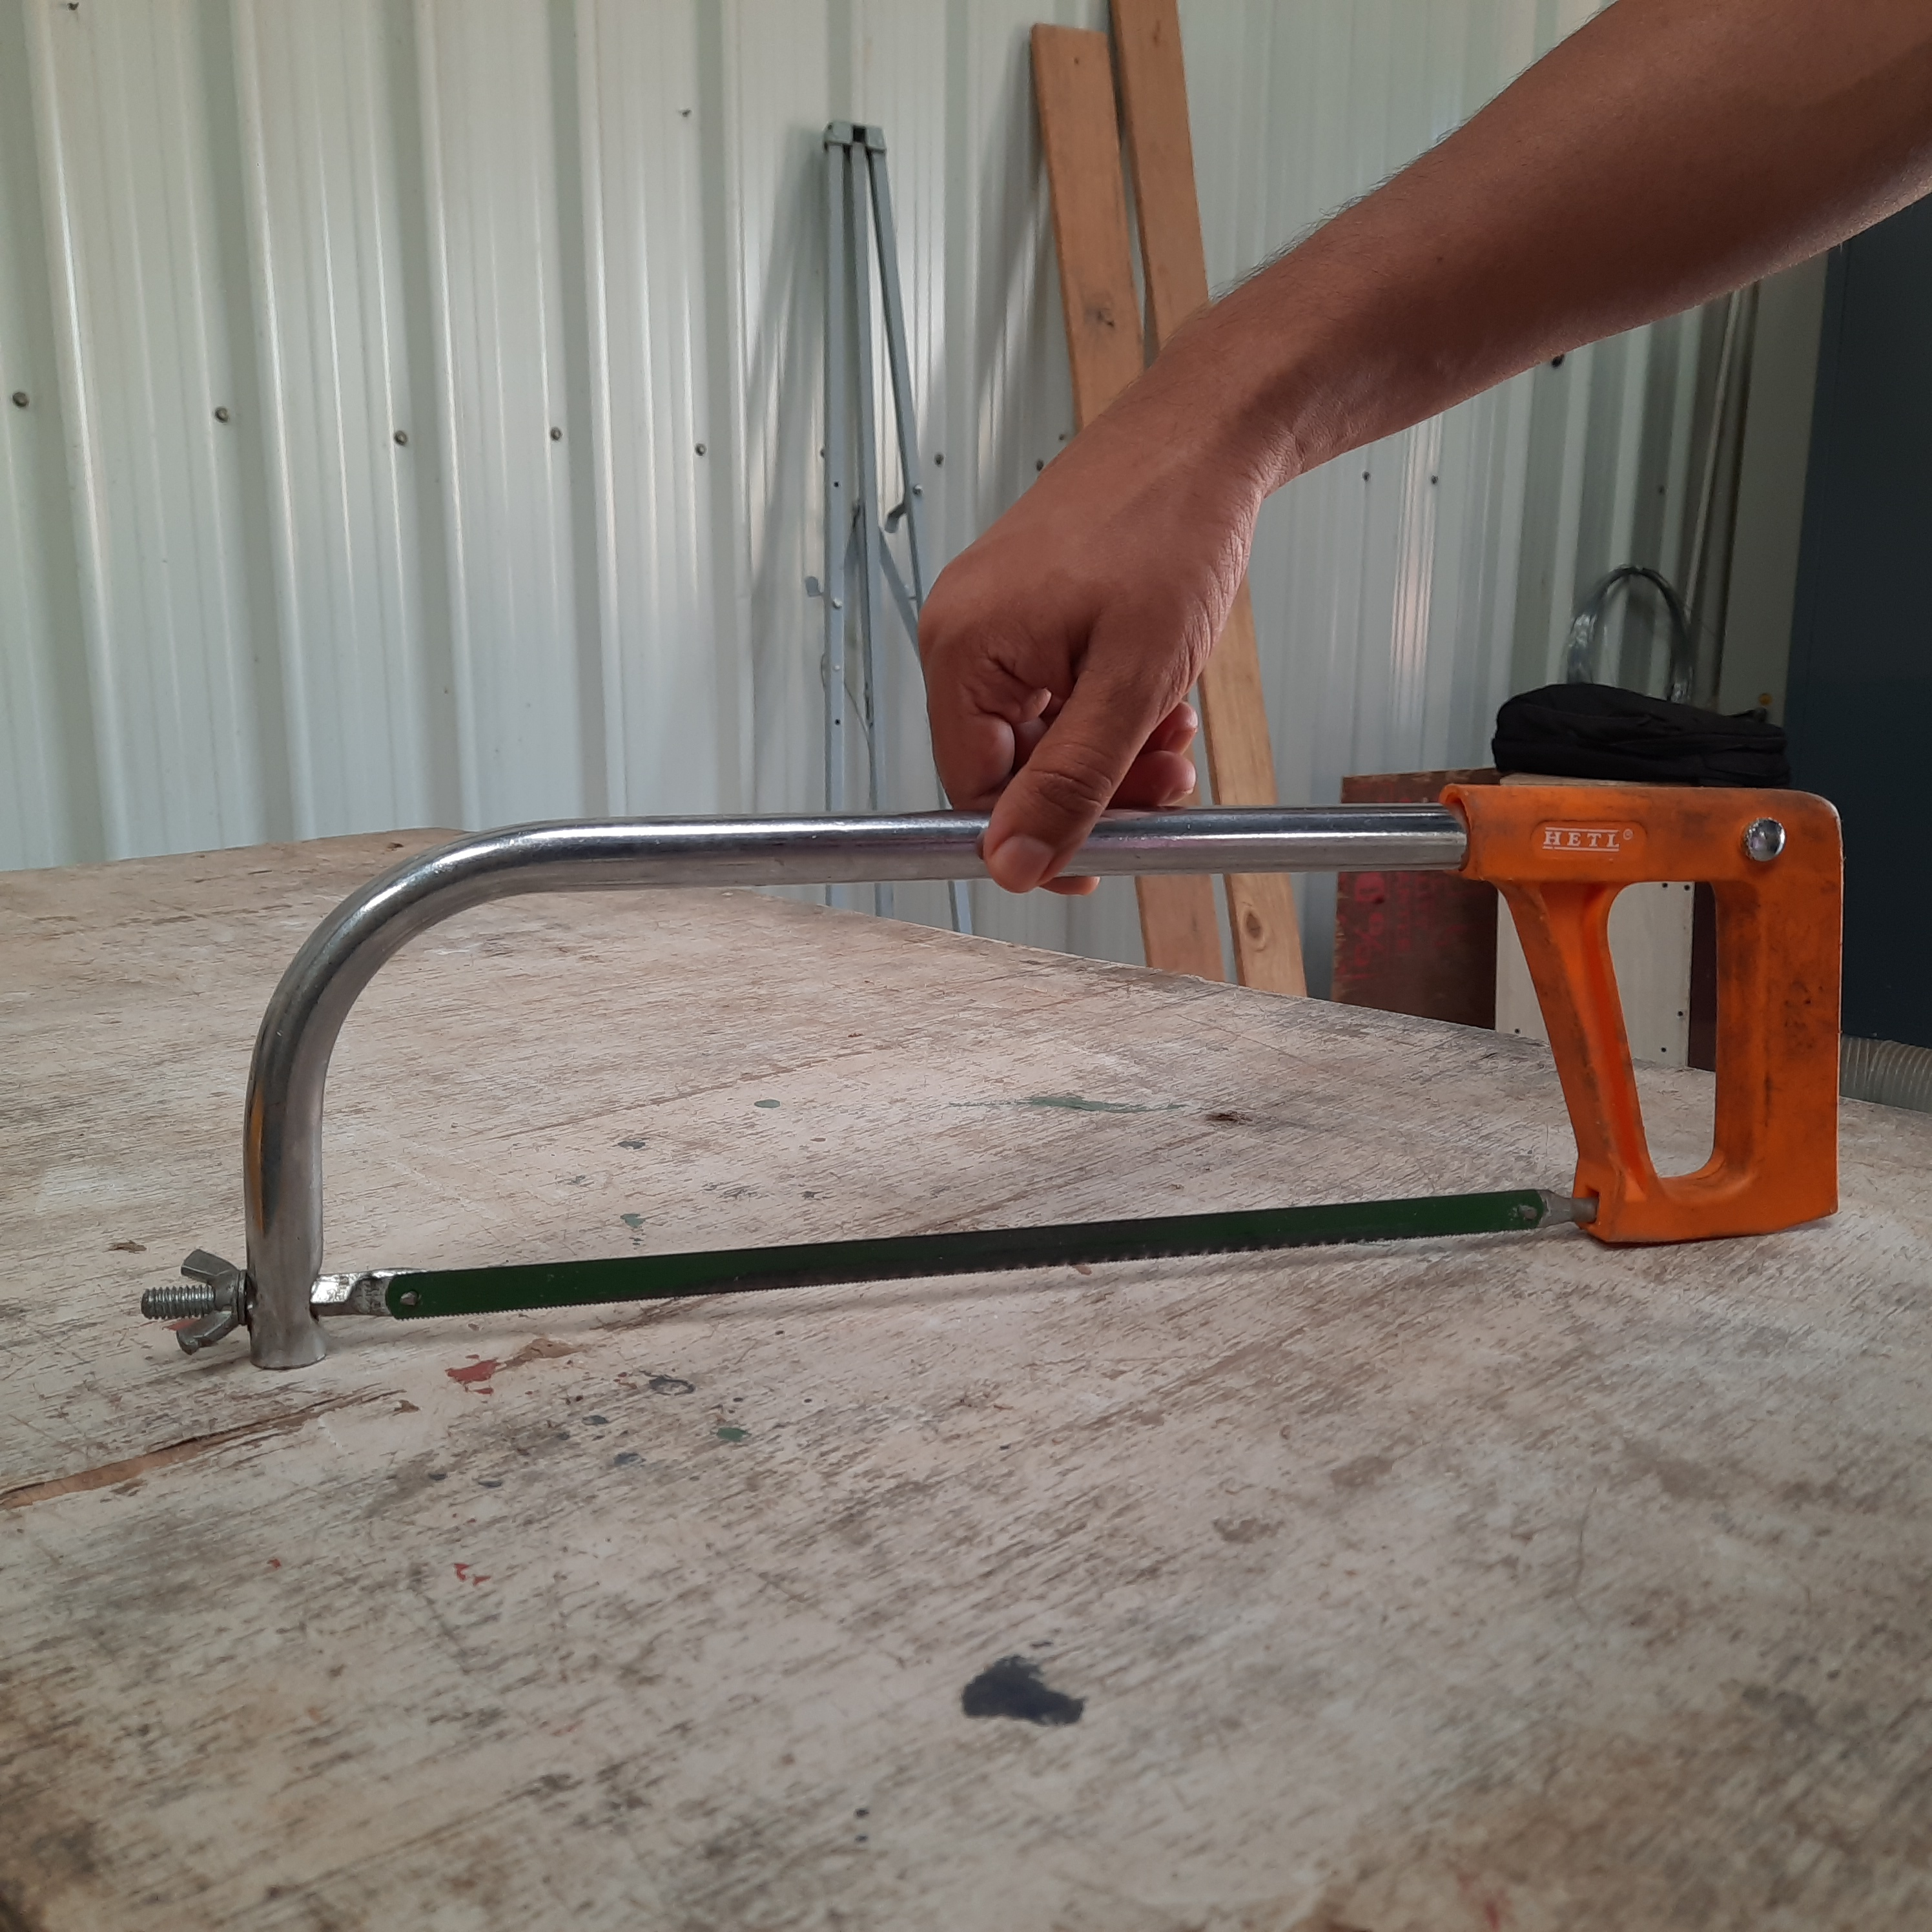Hexaframe: (126, 778, 1902, 1369)
